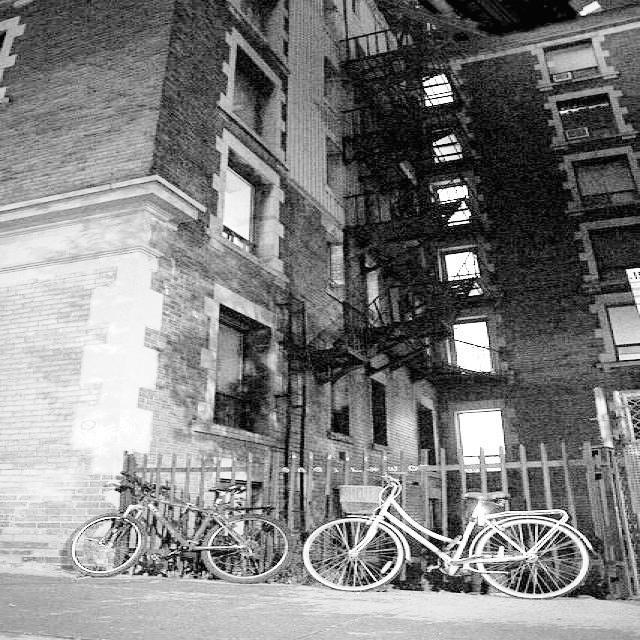Bicycle: (310, 459, 596, 598), (23, 448, 310, 586)
